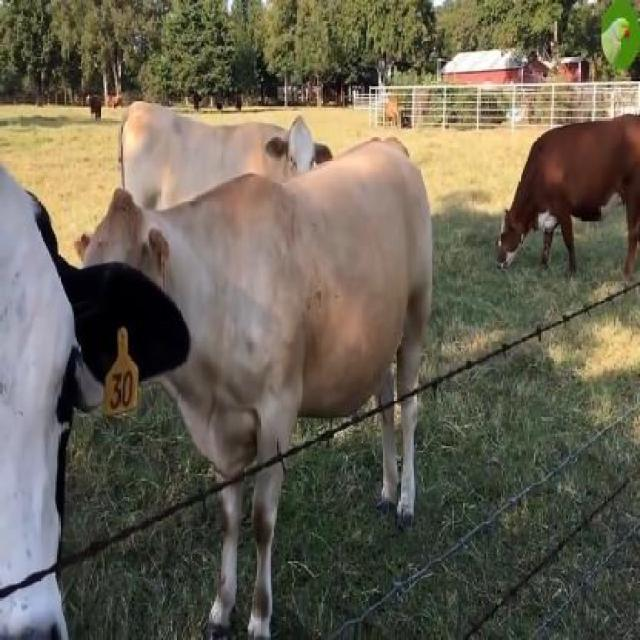Cow: (84, 140, 433, 618)
